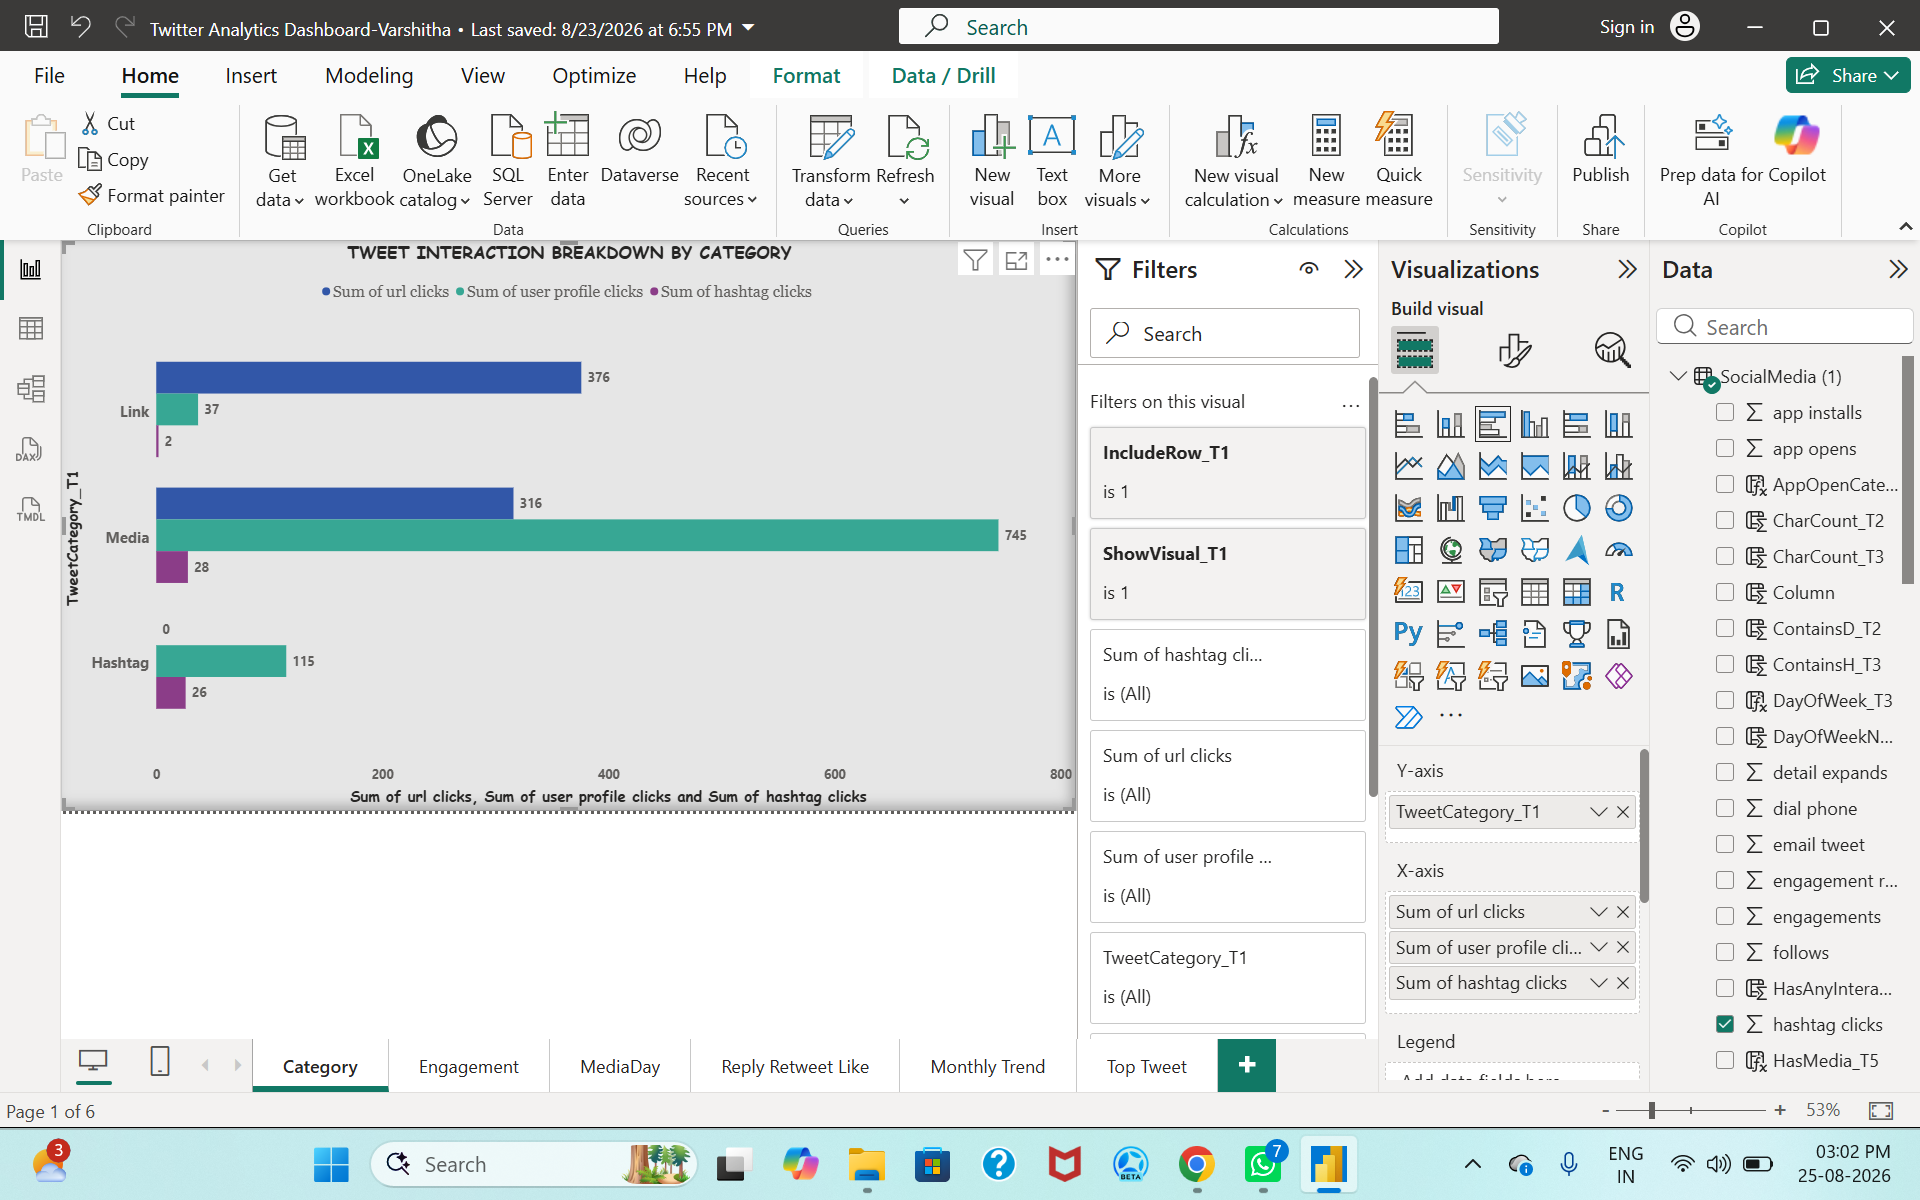

This screenshot's page, from the dashboard's own definition file:
{"tool":"powerbi","page":{"name":"Category","canvas":[1280,720],"ordinal":0},"visuals":[{"type":"clusteredBarChart","title":"TWEET INTERACTION BREAKDOWN BY CATEGORY","fields":{"Category":["SocialMedia (1).TweetCategory_T1"],"Y":["Sum(SocialMedia (1).url clicks)","Sum(SocialMedia (1).user profile clicks)","Sum(SocialMedia (1).hashtag clicks)"]},"box":[0,0,1279.4,720],"z":0}]}

Visuals, with their boxes on the page's 1280x720 design canvas (x1, y1, x2, y2). These are canvas units, not pixel positions in the 1920x1200 screenshot, which may show the page scaled, cropped or inside an application window:
"TWEET INTERACTION BREAKDOWN BY CATEGORY" clusteredBarChart: [left=0, top=0, right=1279, bottom=720]
